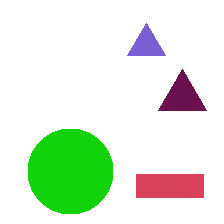circle: (28, 129, 112, 213)
rectangle: (136, 174, 203, 197)
triangle: (158, 69, 206, 110), (127, 23, 165, 55)
